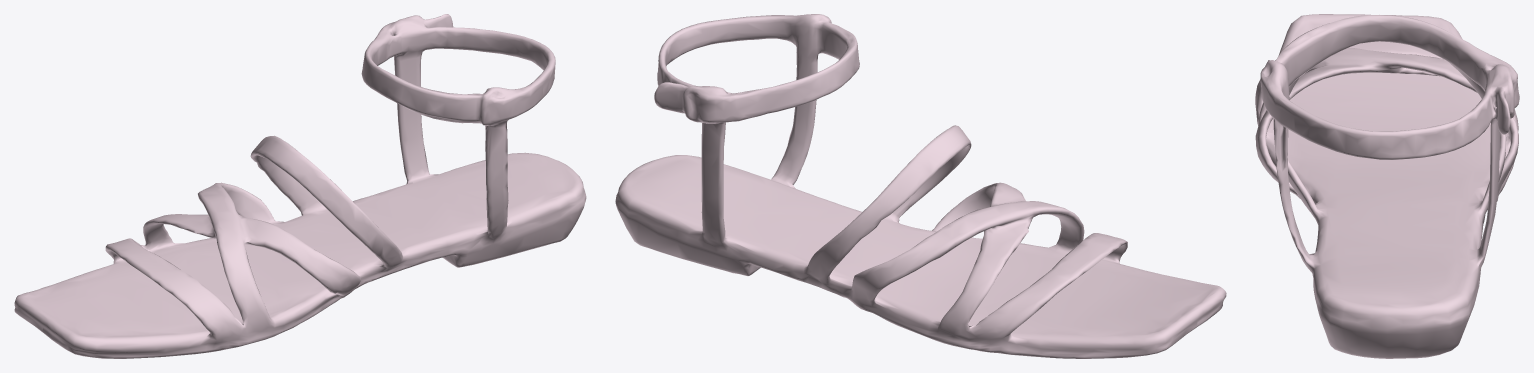
3 renders of one model, left to right at view 1: azimuth 30°, elevation 25°; view 2: azimuth 150°, elevation 25°; view 3: azimuth 270°, elevation 25°, orthographic. The views are drawn at different scales.
Visible parts, largest first — view 1: Mesh1.0; view 2: Mesh1.0; view 3: Mesh1.0.
Part boxes in pixels (bbox=[...]): Mesh1.0: bbox=[14, 14, 586, 358]; Mesh1.0: bbox=[615, 14, 1226, 358]; Mesh1.0: bbox=[1255, 14, 1519, 358].
Bounding box in the file's own units: 62594 × 22016 × 22107.
